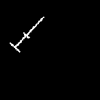double_crochet: (10, 17, 43, 51)
